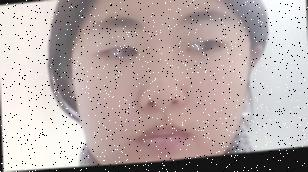eye: (204, 42, 215, 53), (122, 49, 132, 58)
iris: (184, 42, 224, 57), (103, 47, 138, 62)
